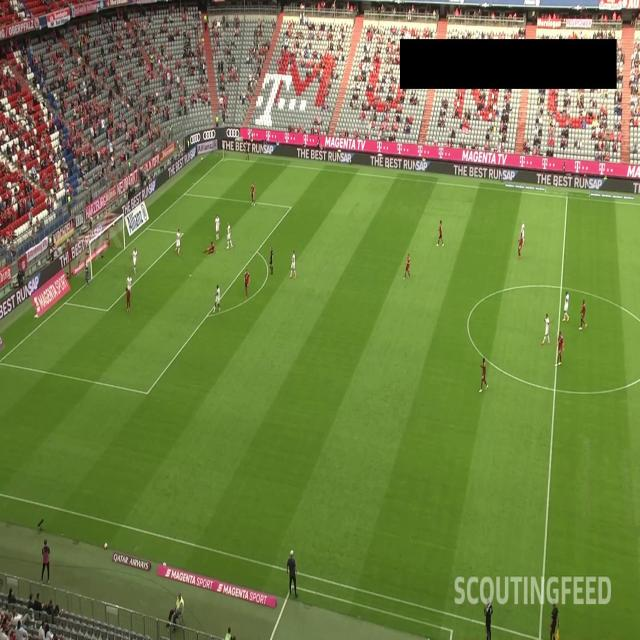player: (553, 326, 565, 366), (478, 354, 488, 394), (578, 297, 588, 332), (402, 249, 412, 282), (541, 311, 550, 346), (561, 288, 570, 322), (212, 283, 222, 312), (243, 266, 252, 298), (123, 285, 132, 314), (202, 237, 218, 253), (125, 271, 134, 299), (289, 248, 297, 279), (82, 257, 90, 287), (436, 218, 444, 248), (516, 229, 524, 259), (174, 227, 182, 256), (226, 219, 233, 251), (249, 180, 257, 208), (214, 212, 221, 240), (132, 246, 138, 274), (521, 218, 526, 246)
referee: (549, 598, 560, 640), (267, 243, 275, 276), (243, 140, 250, 161)
